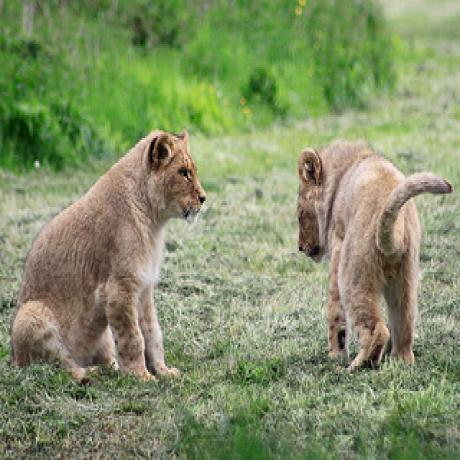Lion: (9, 125, 207, 388), (293, 143, 422, 376)
